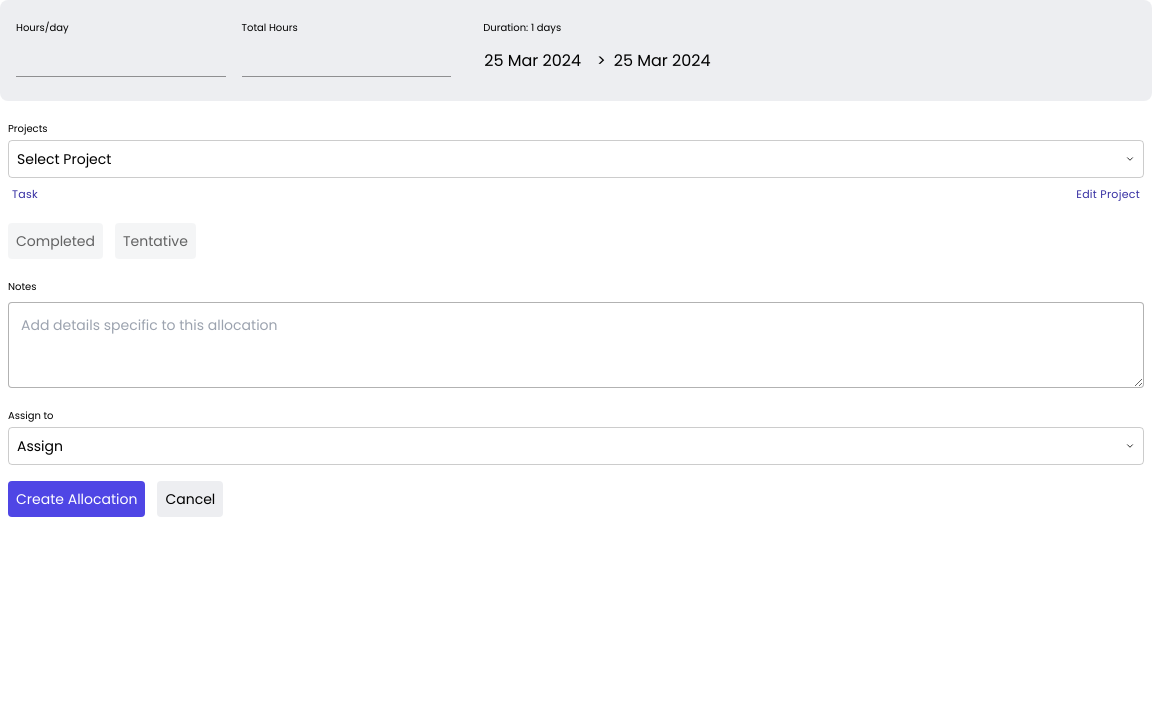
Test: AllocationForm component › renders Assign to dropdown with correct data
Click the text "Assign".
click(40, 446)  # box [17,436,63,456]
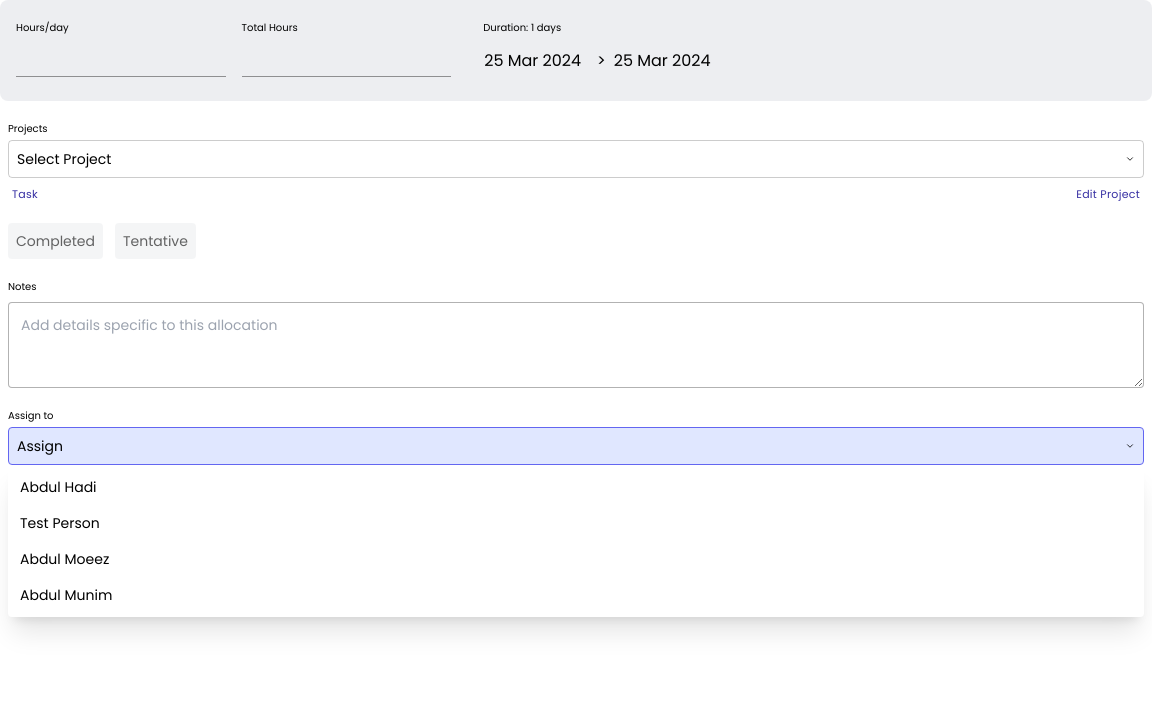
Expected: the text "Abdul Hadi" is shown, [20,476,97,496]
